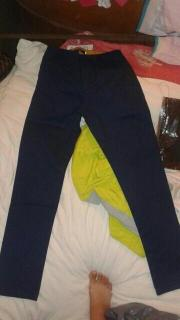trousers: (0, 46, 180, 301)
